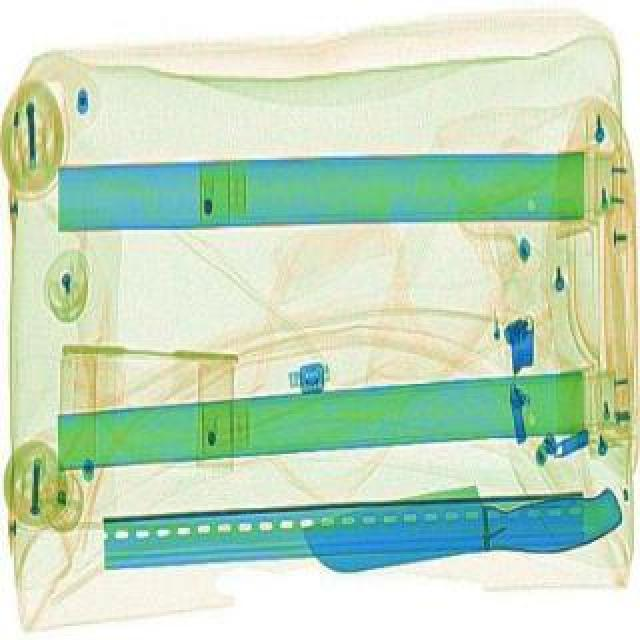knife: (296, 472, 624, 574)
